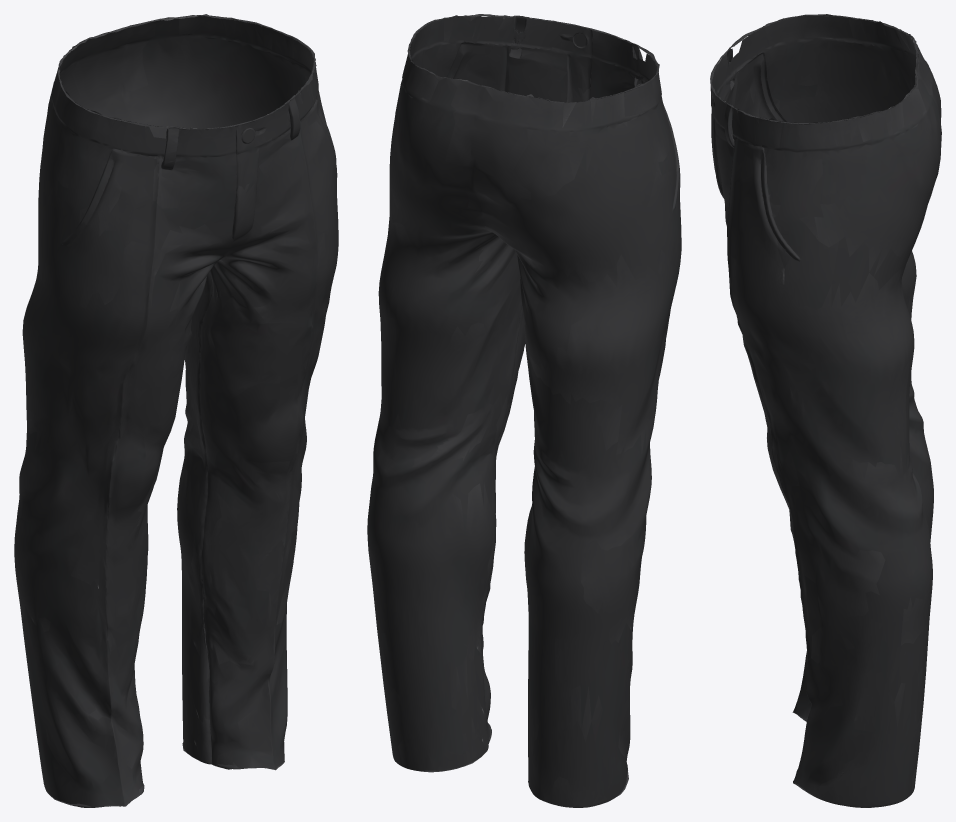
File: bottom_trousers.glb
The picture shows the model from 3 angles, left to right: view 1: azimuth 30°, elevation 25°; view 2: azimuth 150°, elevation 25°; view 3: azimuth 270°, elevation 25°; orthographic projection. The views are drawn at different scales.
Visible parts, largest first — view 1: trousers; view 2: trousers; view 3: trousers.
Part boxes in pixels (bbox=[...]): trousers: bbox=[14, 14, 338, 807]; trousers: bbox=[367, 14, 681, 807]; trousers: bbox=[710, 14, 941, 807].
Bounding box in the file's own units: 0.348 × 0.8739 × 0.2641.
1 material, 1 textured.
